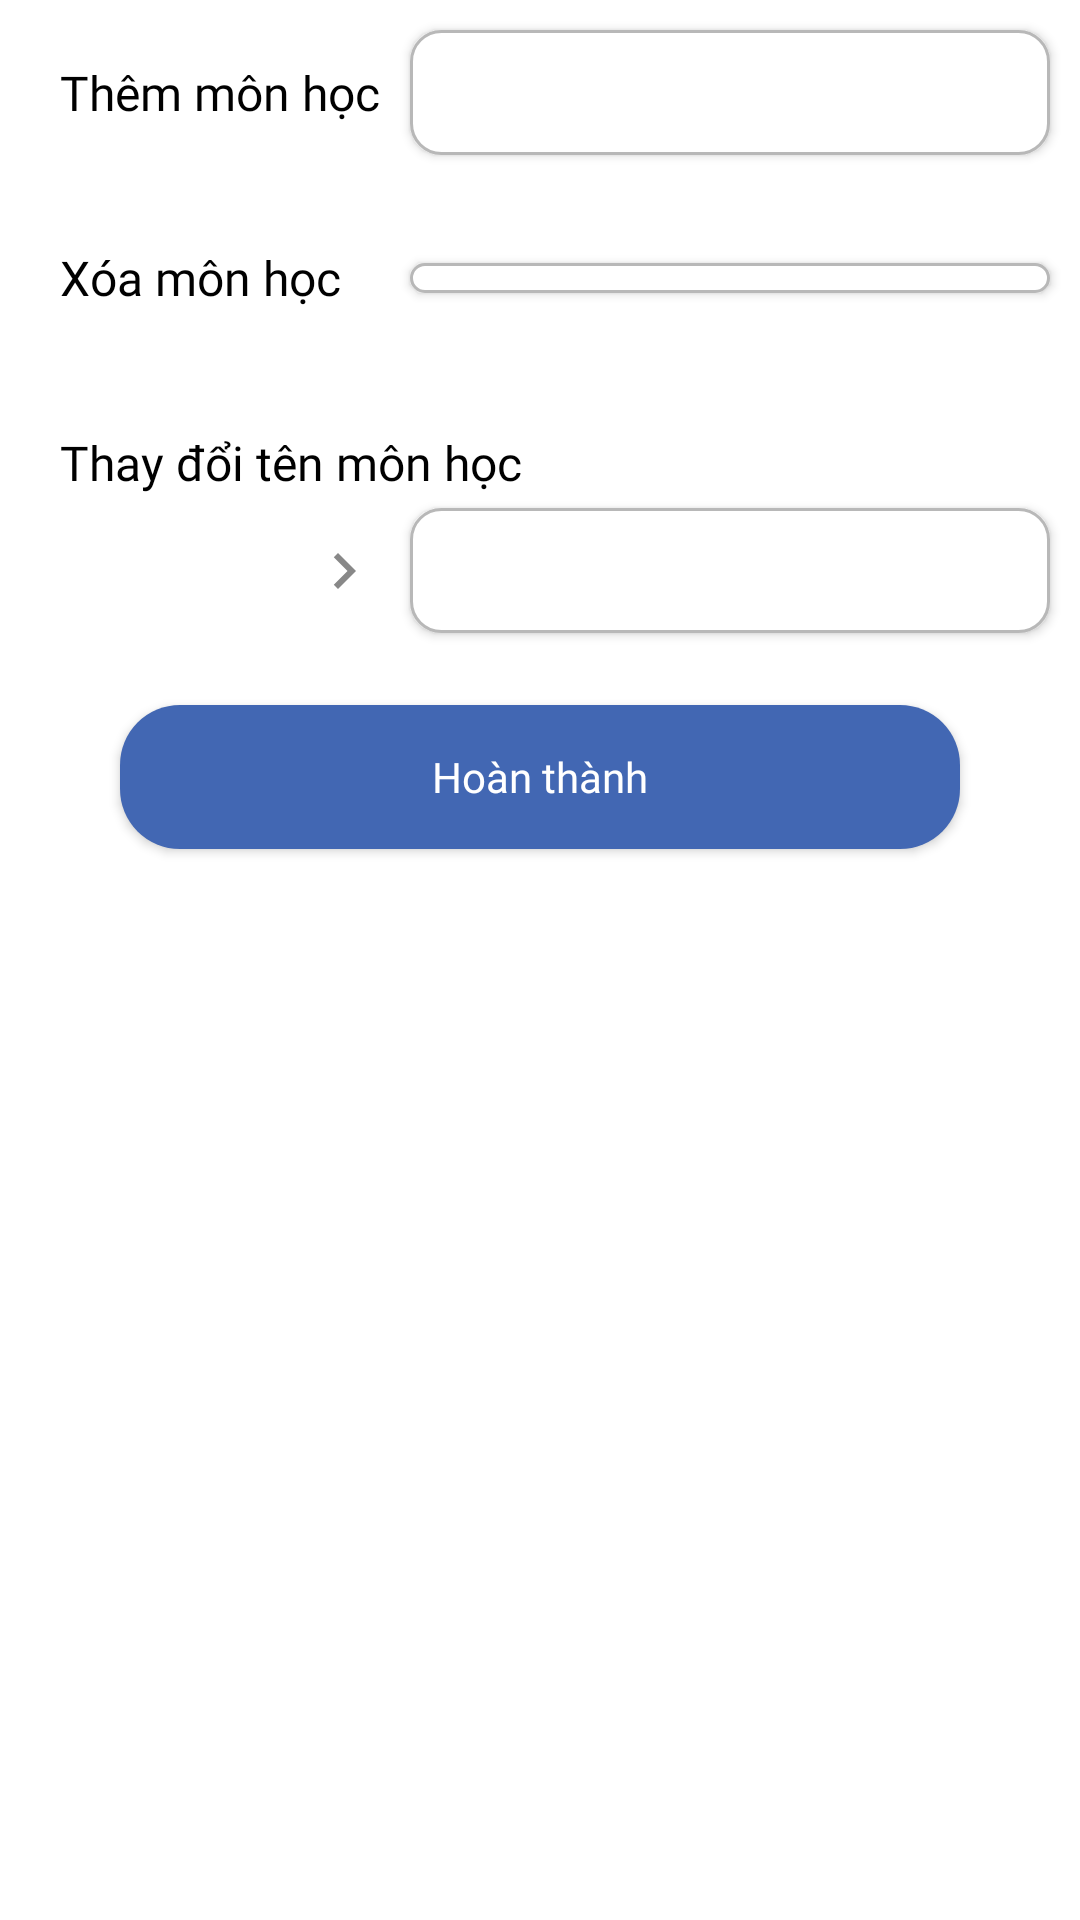

Icon click points for this 1080px x 1920px phone screenshot, format (x,y):
navigate next: (345,571)
